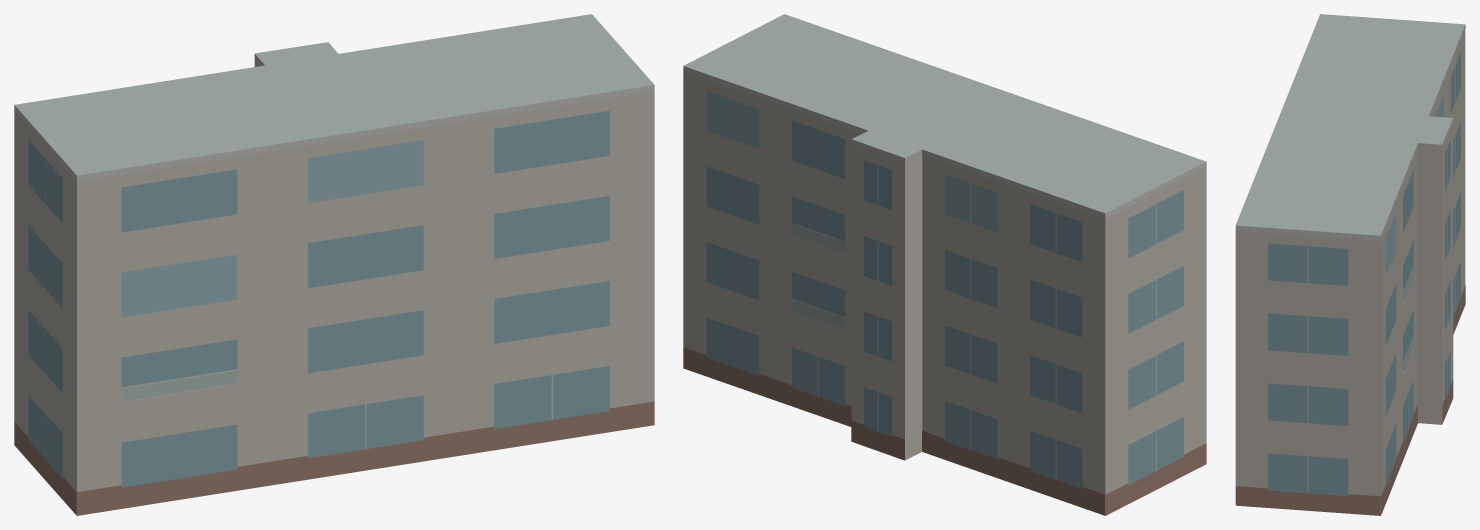
The model's file is survey-upis-32870682.glb.
3 renders of one model, left to right at view 1: azimuth 30°, elevation 25°; view 2: azimuth 150°, elevation 25°; view 3: azimuth 270°, elevation 25°, orthographic. The views are drawn at different scales.
Visible parts, largest first — view 1: survey-upis-32870682.tmp; view 2: survey-upis-32870682.tmp; view 3: survey-upis-32870682.tmp.
Part boxes in pixels (left/top/right/bottom): survey-upis-32870682.tmp: left=14, top=14, right=654, bottom=515; survey-upis-32870682.tmp: left=683, top=14, right=1206, bottom=515; survey-upis-32870682.tmp: left=1235, top=14, right=1465, bottom=515.
Bounding box in the file's own units: 22.42 × 13.2 × 9.83.
